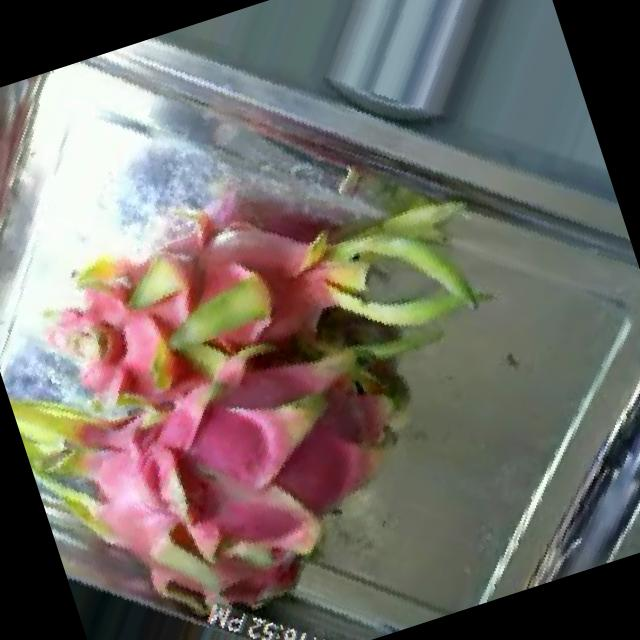Fruit: (58, 521, 207, 640)
